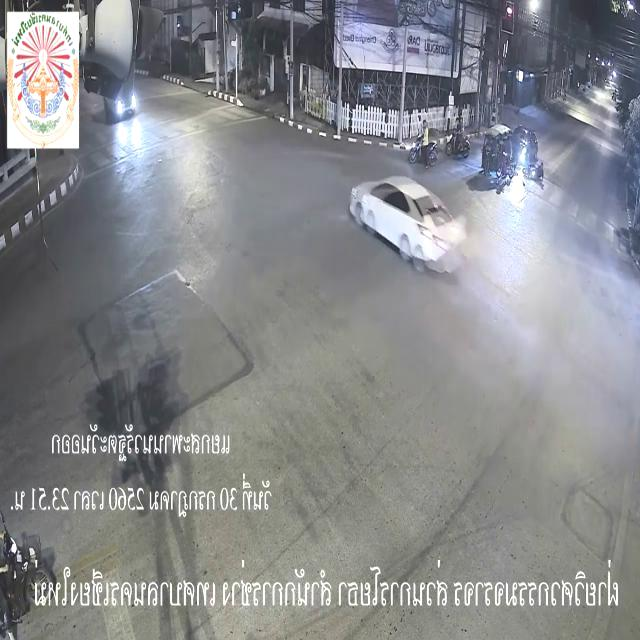accident: (477, 123, 548, 200)
non-accident: (404, 116, 472, 168)
